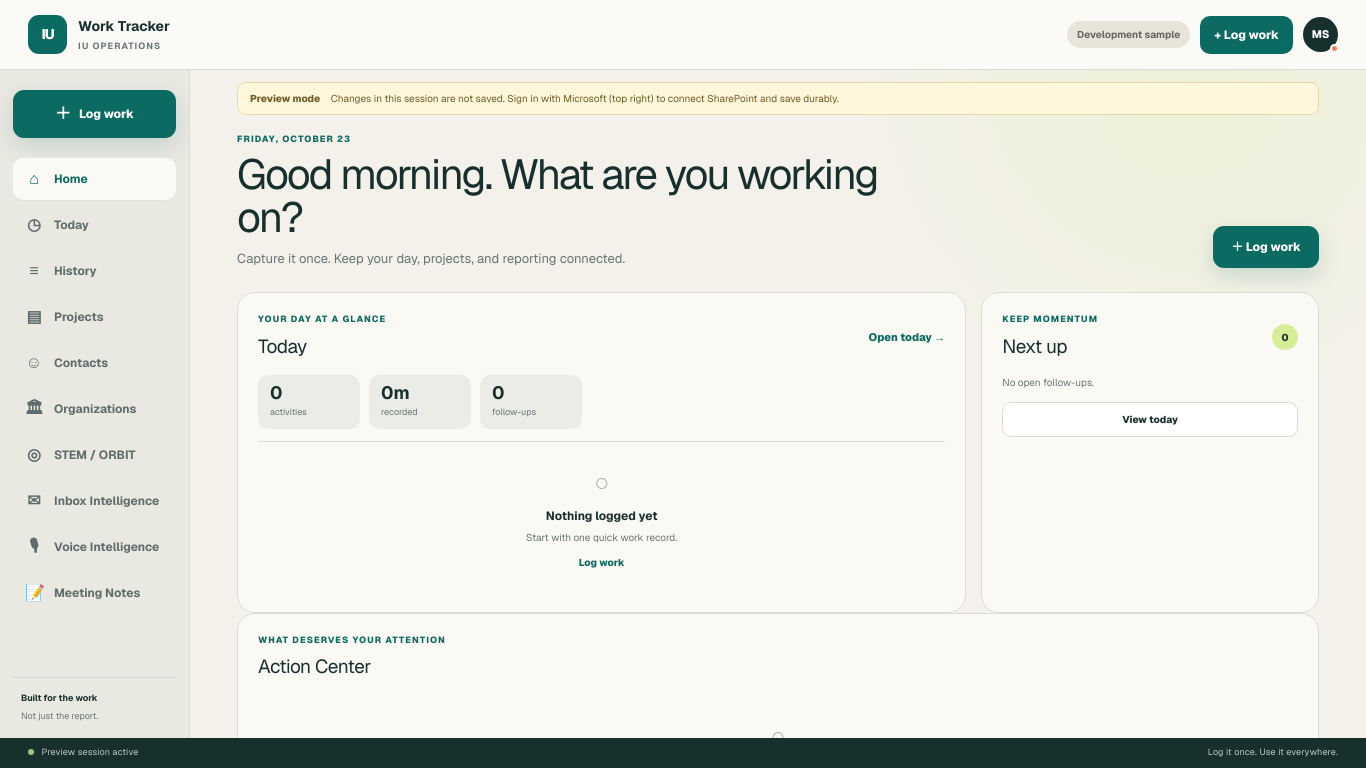
Test: Opening Contact Detail › clicking a seeded contact card opens its detail view
The image size is (1366, 768).
Click the button "☺ Contacts" at (94, 363), box [13,342,176,384]
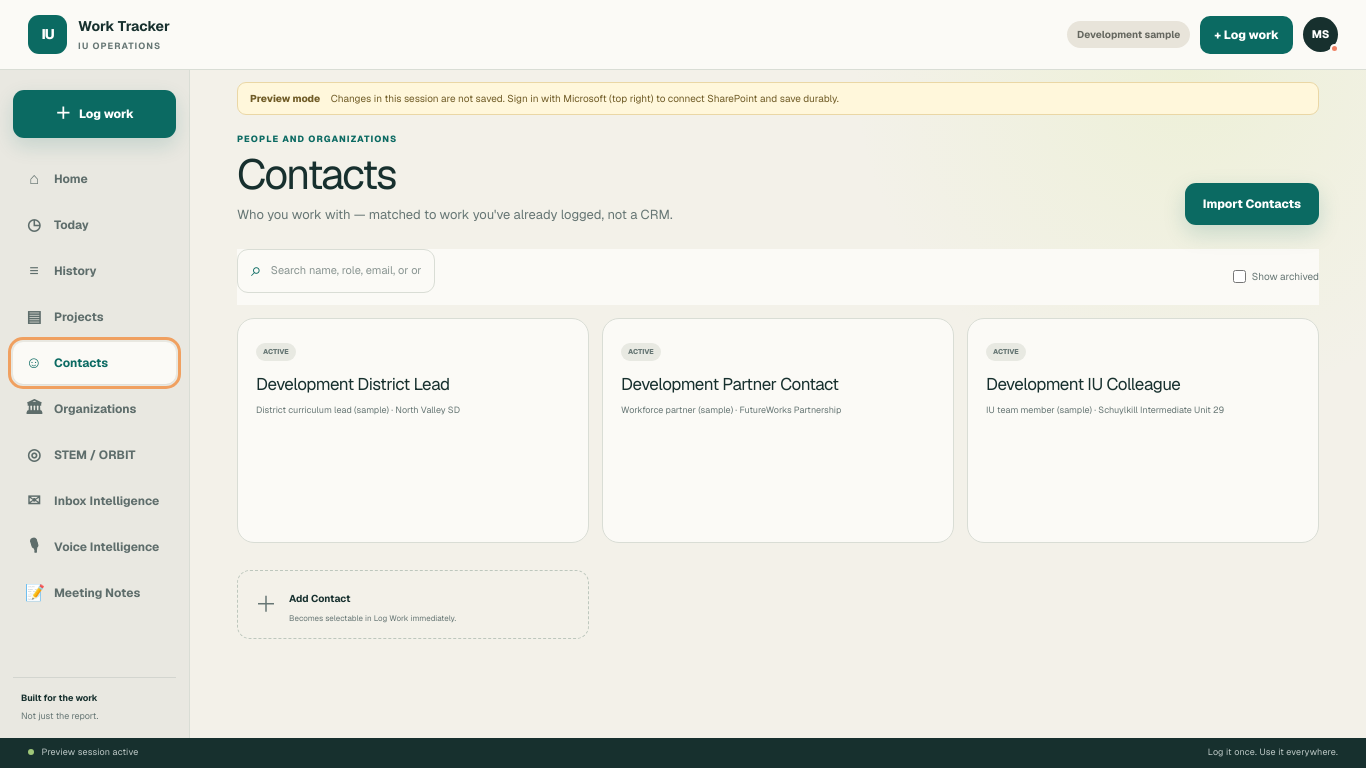
Click the button "Development Partner Contact" at (778, 377), box [621,337,935,417]
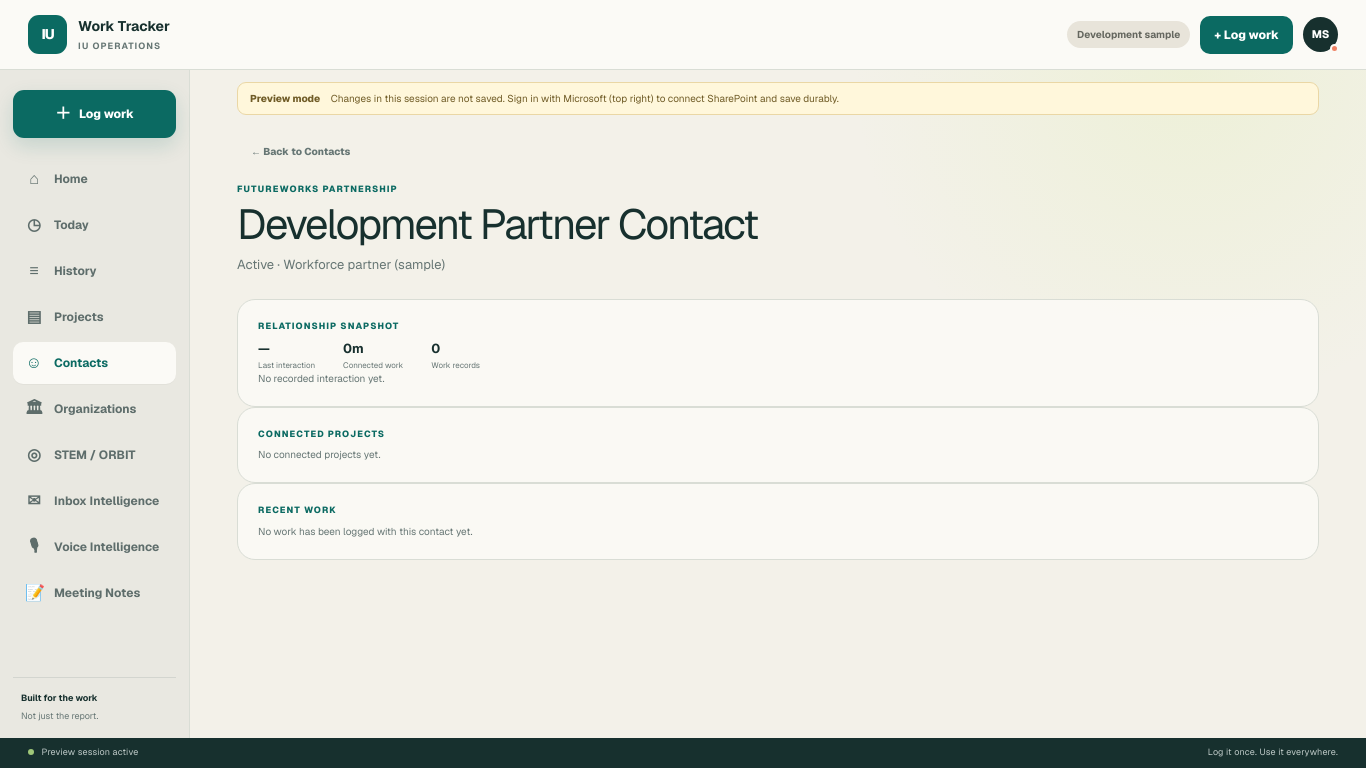
Expected: the heading "Development Partner Contact" is shown, [237,202,757,246]
Expected: the button "← Back to Contacts" is shown, [237,133,364,170]
